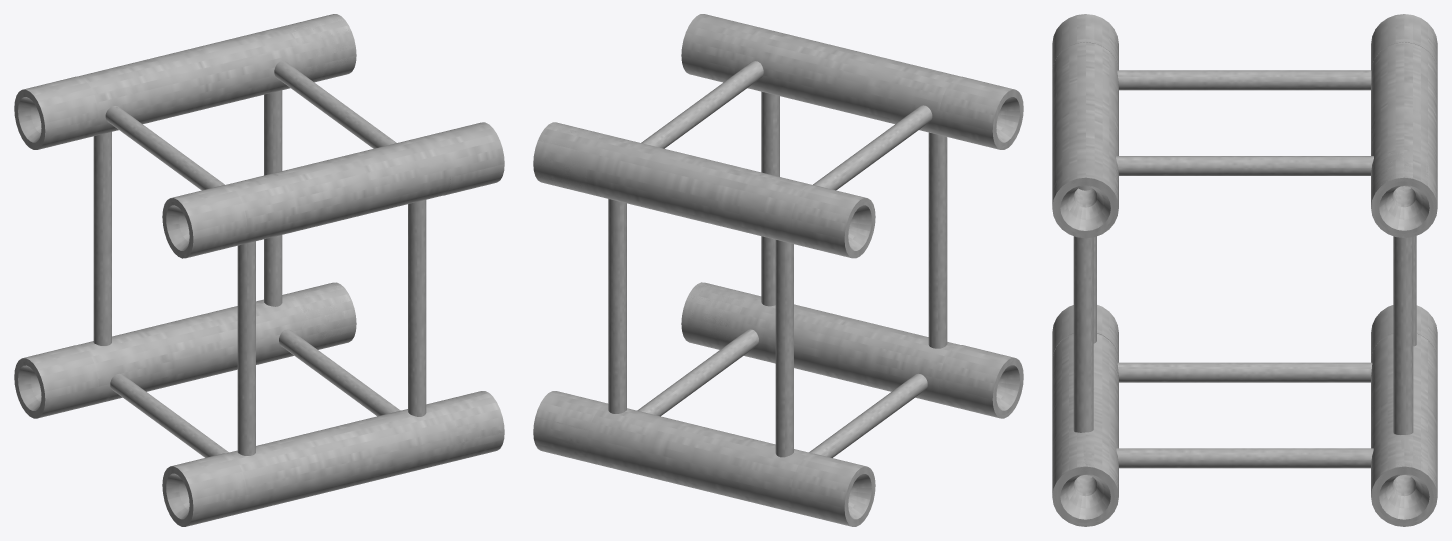
File: Milos_M290V_290_Quattro_truss_section-e6de3144.glb
The picture shows the model from 3 angles, left to right: view 1: azimuth 30°, elevation 25°; view 2: azimuth 150°, elevation 25°; view 3: azimuth 270°, elevation 25°; orthographic projection. The views are drawn at different scales.
Parts seen in each view (by area): view 1: Geom3D (×10); view 2: Geom3D (×10); view 3: Geom3D (×10).
Boxes of the visible parts, x1,y1,x2,y2 form: Geom3D (×10): (14,14,504,526); Geom3D (×10): (533,14,1023,526); Geom3D (×10): (1052,14,1437,526).
Bounding box in the file's own units: 0.29 × 0.2892 × 0.289.
Materials: 1 (1 with a texture image).
